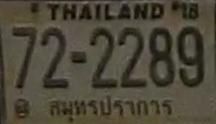2: (40, 27, 68, 88), (118, 26, 144, 86), (90, 26, 115, 87)
7: (11, 26, 36, 88)
8: (148, 27, 173, 86)
9: (176, 26, 203, 86)
SPK: (46, 94, 175, 121)
